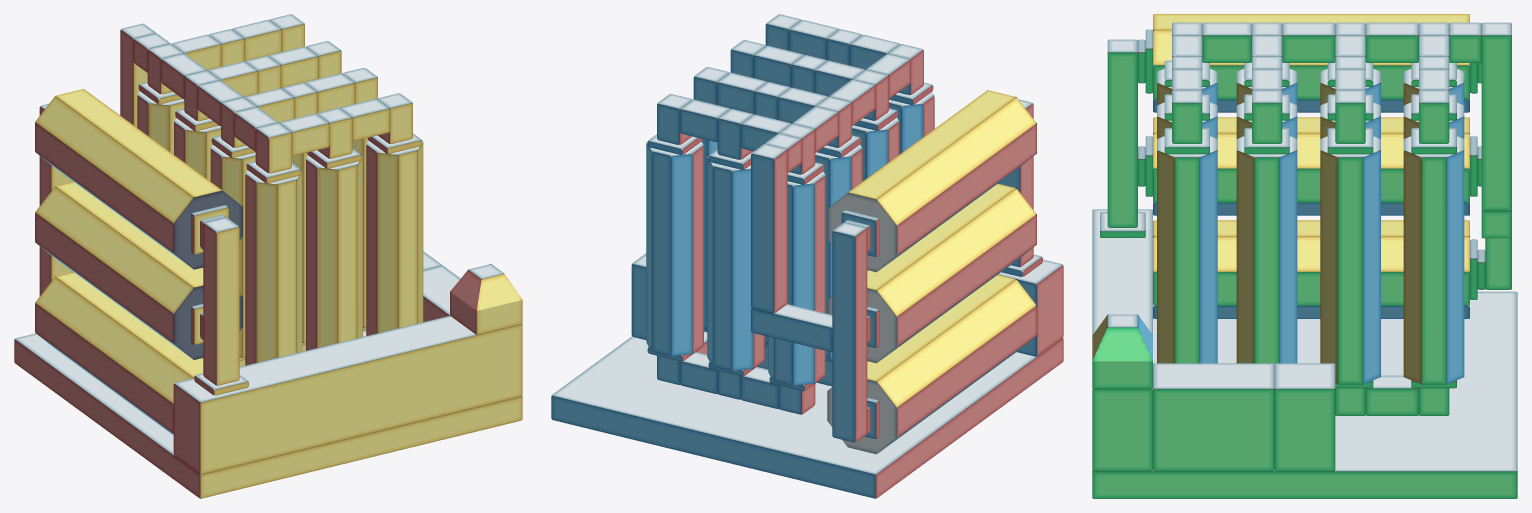
The model's file is gas_centrifuge.obj.
The picture shows the model from 3 angles, left to right: view 1: azimuth 30°, elevation 25°; view 2: azimuth 150°, elevation 25°; view 3: azimuth 270°, elevation 25°; orthographic projection. The views are drawn at different scales.
Visible parts, largest first — view 1: cuboid; view 2: cuboid; view 3: cuboid.
Part boxes in pixels (box(x1,y1,x2,y2)): cuboid: box(14, 14, 522, 498); cuboid: box(551, 14, 1063, 498); cuboid: box(1092, 14, 1517, 498).
Size of the model in its own units: 7 by 6.44 by 7.
